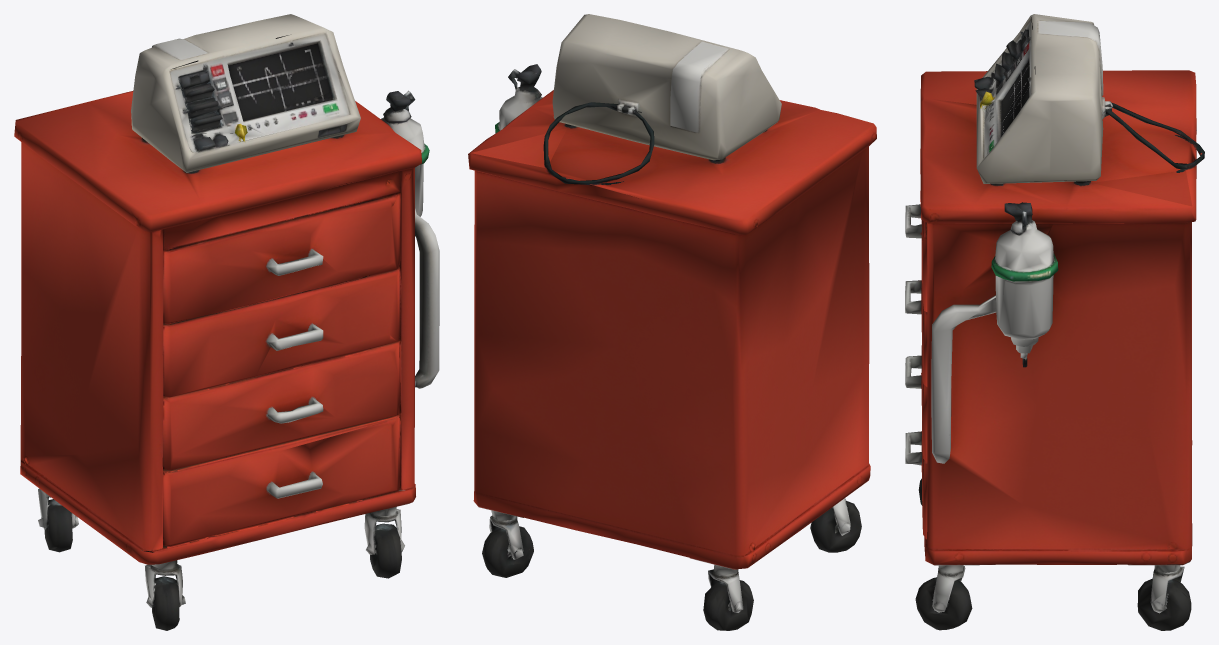
Rendered from med_crash_cart.glb.
The picture shows the model from 3 angles, left to right: view 1: azimuth 30°, elevation 25°; view 2: azimuth 150°, elevation 25°; view 3: azimuth 270°, elevation 25°; orthographic projection.
Parts seen in each view (by area): view 1: med_crash_cart; view 2: med_crash_cart; view 3: med_crash_cart.
Boxes of the visible parts, <box> form: med_crash_cart: <box>14,14,439,630</box>; med_crash_cart: <box>468,14,876,630</box>; med_crash_cart: <box>905,14,1204,630</box>.
Bounding box in the file's own units: 0.6635 × 1 × 0.5116.
1 material, 1 textured.
